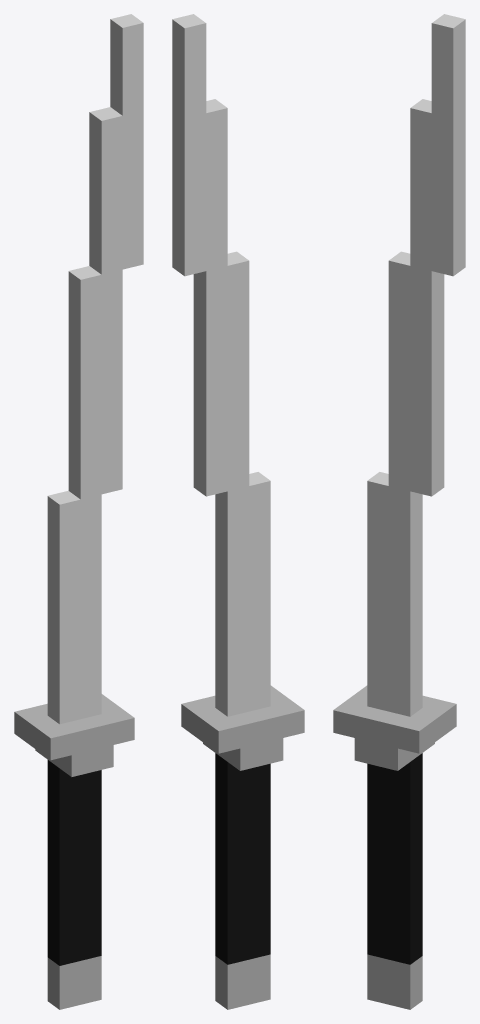
The model's file is weapon_sword_katana.glb.
The picture shows the model from 3 angles, left to right: view 1: azimuth 30°, elevation 25°; view 2: azimuth 210°, elevation 25°; view 3: azimuth 330°, elevation 25°; orthographic projection. The views are drawn at different scales.
Visible parts, largest first — view 1: weapon_sword_katana; view 2: weapon_sword_katana; view 3: weapon_sword_katana.
Part boxes in pixels (bbox=[...]): weapon_sword_katana: bbox=[14, 14, 143, 1009]; weapon_sword_katana: bbox=[172, 14, 304, 1009]; weapon_sword_katana: bbox=[333, 14, 465, 1009].
Bounding box in the file's own units: 0.5 × 4.4 × 0.3.
1 material, 1 textured.
